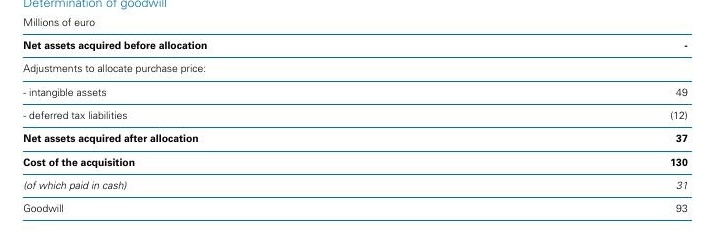table: (0, 0, 708, 241)
